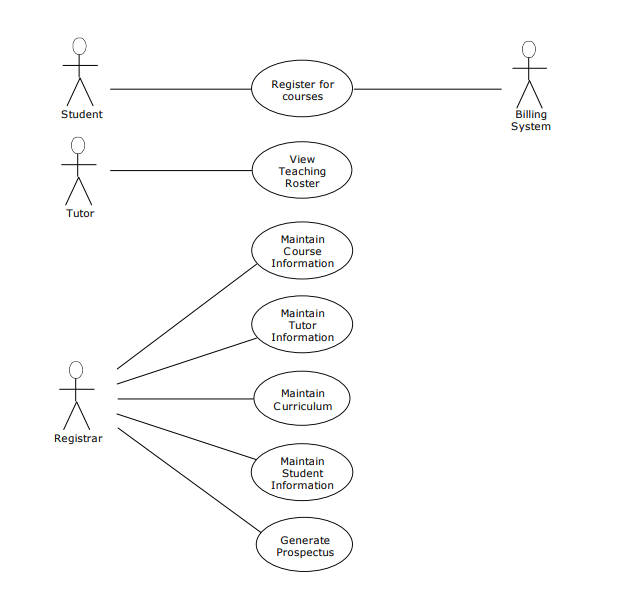actor: (510, 39, 550, 111), (57, 136, 98, 206), (56, 360, 95, 432), (61, 35, 99, 108)
association: (114, 263, 258, 372), (115, 426, 260, 533), (115, 337, 258, 384), (115, 412, 256, 459), (352, 81, 504, 96), (108, 163, 253, 176), (107, 83, 251, 95), (113, 393, 254, 404)
text: (268, 233, 339, 270), (268, 454, 336, 491), (270, 306, 335, 344), (275, 153, 330, 191), (269, 386, 337, 416), (271, 533, 339, 562), (268, 78, 337, 104), (506, 110, 555, 136), (50, 431, 105, 447), (59, 109, 107, 122), (64, 206, 99, 221)
use_case: (251, 220, 354, 281), (252, 293, 354, 354), (249, 59, 354, 117), (251, 140, 354, 199), (251, 442, 354, 500), (253, 370, 352, 426), (255, 517, 353, 572)
